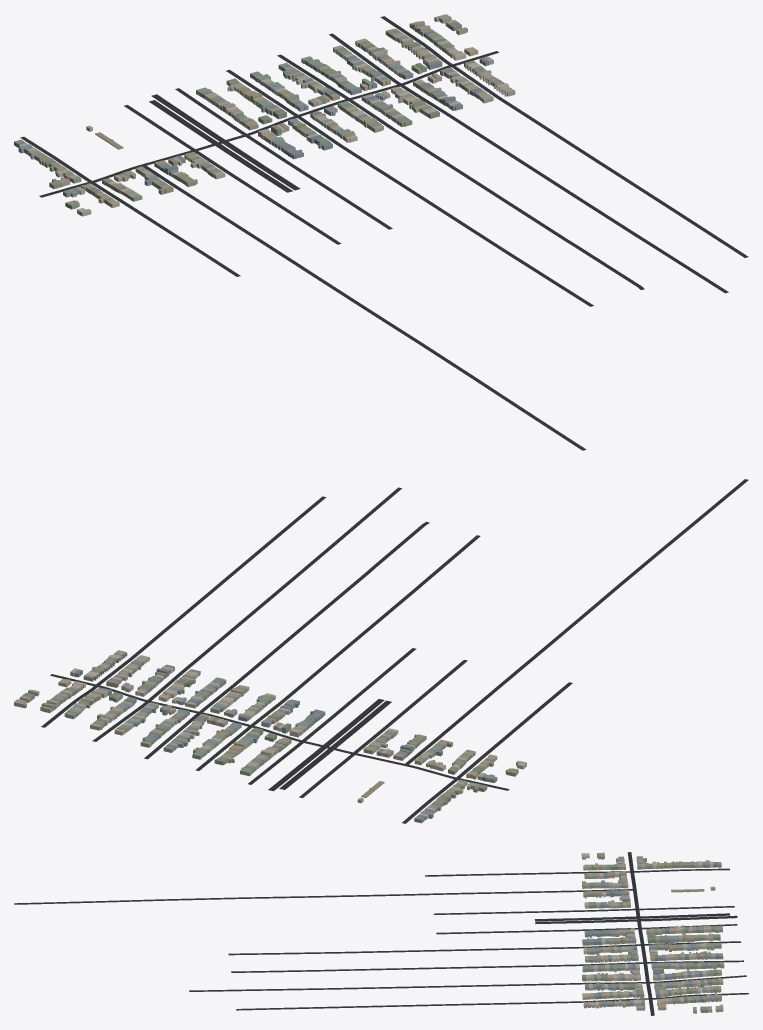
File: tile_3_17.glb
3 renders of one model, top to bottom at view 1: azimuth 30°, elevation 25°; view 2: azimuth 150°, elevation 25°; view 3: azimuth 270°, elevation 25°, orthographic. The views are drawn at different scales.
Parts seen in each view (by area): view 1: bld_3_17, road_3_17; view 2: bld_3_17, road_3_17; view 3: bld_3_17, road_3_17.
Part boxes in pixels (x1,y1,x2,y2): bld_3_17: [14, 14, 515, 216]; road_3_17: [20, 16, 748, 450]; bld_3_17: [14, 650, 526, 823]; road_3_17: [41, 479, 748, 823]; bld_3_17: [581, 852, 724, 1013]; road_3_17: [14, 852, 748, 1015].
Size of the model in its own units: 839 by 45.1 by 1463.
